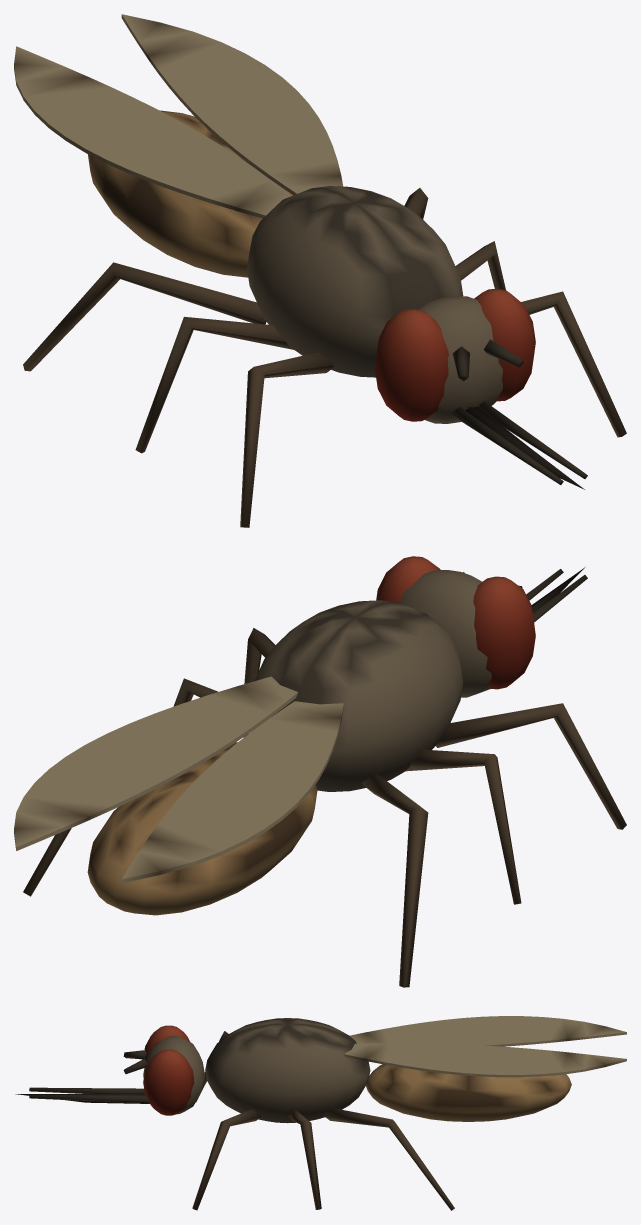
Rendered from GlossinaOligocena.fbx.
3 renders of one model, top to bottom at view 1: azimuth 30°, elevation 25°; view 2: azimuth 150°, elevation 25°; view 3: azimuth 270°, elevation 25°, orthographic. The views are drawn at different scales.
Visible parts, largest first — view 1: GlossinaOligocena; view 2: GlossinaOligocena; view 3: GlossinaOligocena.
Part boxes in pixels (box(x1,y1,x2,y2)): GlossinaOligocena: box(14, 14, 626, 527); GlossinaOligocena: box(14, 556, 626, 987); GlossinaOligocena: box(15, 1016, 626, 1210).
Size of the model in its own units: 0.511 by 0.2837 by 1.19.
